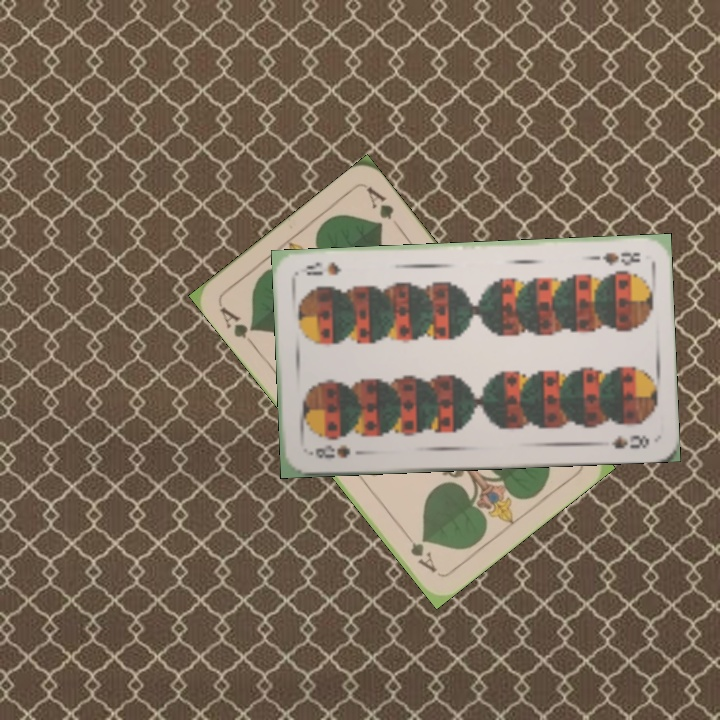GA: (215, 302, 260, 350)
S8: (586, 248, 643, 269), (304, 440, 353, 461)
